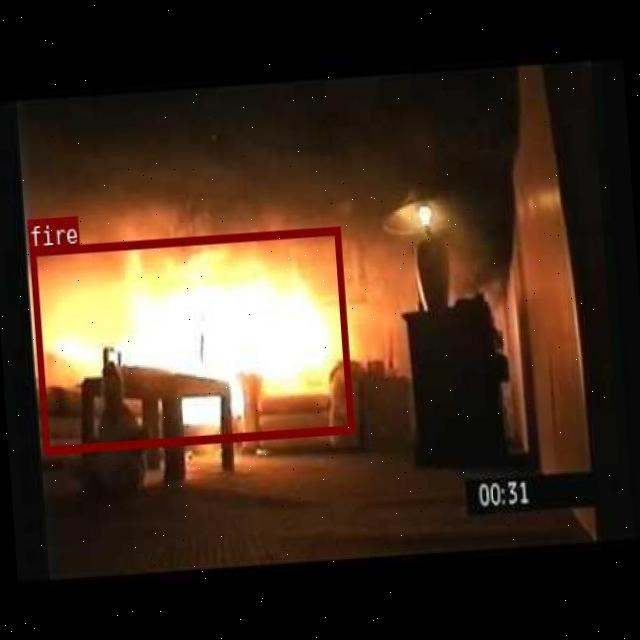fire: (28, 225, 353, 452)
